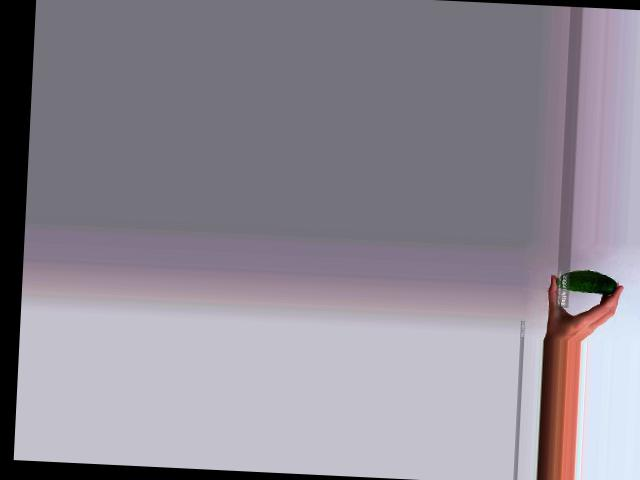cucumber: (555, 268, 617, 294)
